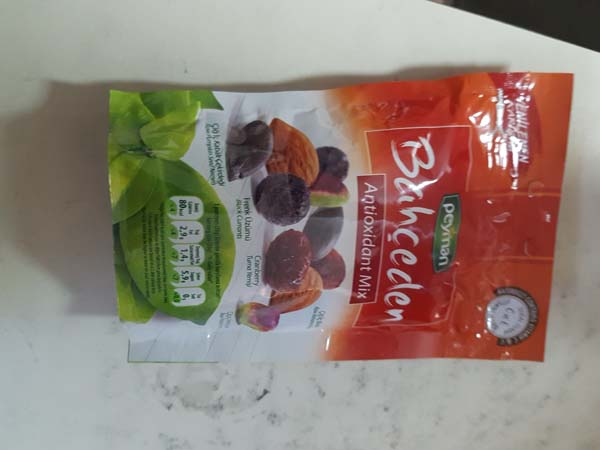bahcedenantioxidan: (105, 66, 573, 368)
